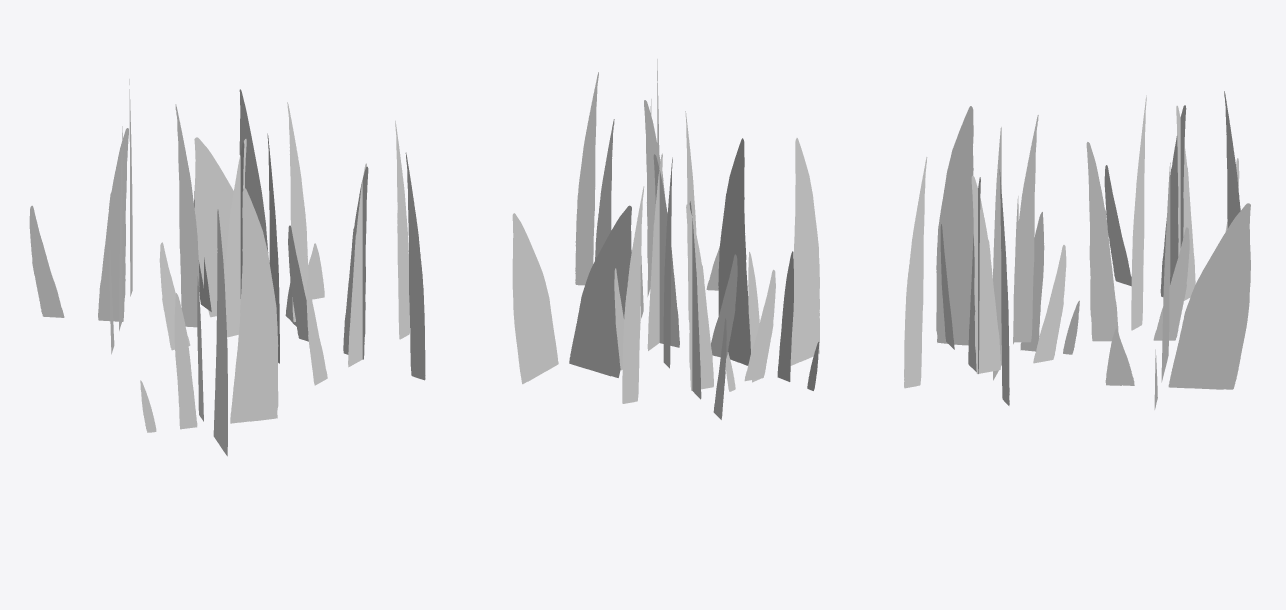
Rendered from Grass.fbx.
3 views of the same model, side by side, from view 1: azimuth 30°, elevation 25°; view 2: azimuth 150°, elevation 25°; view 3: azimuth 270°, elevation 25° (orthographic). The views are drawn at different scales.
Visible parts, largest first — view 1: Grass.002, Grass.003, Grass.004, Grass, Grass.001; view 2: Grass.002, Grass.001, Grass.004, Grass, Grass.003; view 3: Grass.001, Grass.003, Grass.002, Grass, Grass.004.
Part boxes in pixels (bbox=[...]): Grass.002: bbox=[140, 188, 278, 456]; Grass.003: bbox=[288, 120, 425, 385]; Grass.004: bbox=[29, 79, 199, 354]; Grass: bbox=[159, 102, 308, 363]; Grass.001: bbox=[194, 89, 324, 326]; Grass.002: bbox=[718, 138, 819, 391]; Grass.001: bbox=[512, 205, 631, 384]; Grass.004: bbox=[622, 157, 775, 419]; Grass: bbox=[595, 111, 737, 370]; Grass.003: bbox=[575, 59, 719, 318]; Grass.001: bbox=[1105, 162, 1250, 409]; Grass.003: bbox=[904, 157, 1066, 405]; Grass.002: bbox=[936, 106, 1079, 380]; Grass: bbox=[1013, 115, 1189, 342]; Grass.004: bbox=[1104, 91, 1240, 330].
Size of the model in its own units: 84.14 by 100 by 86.05.
